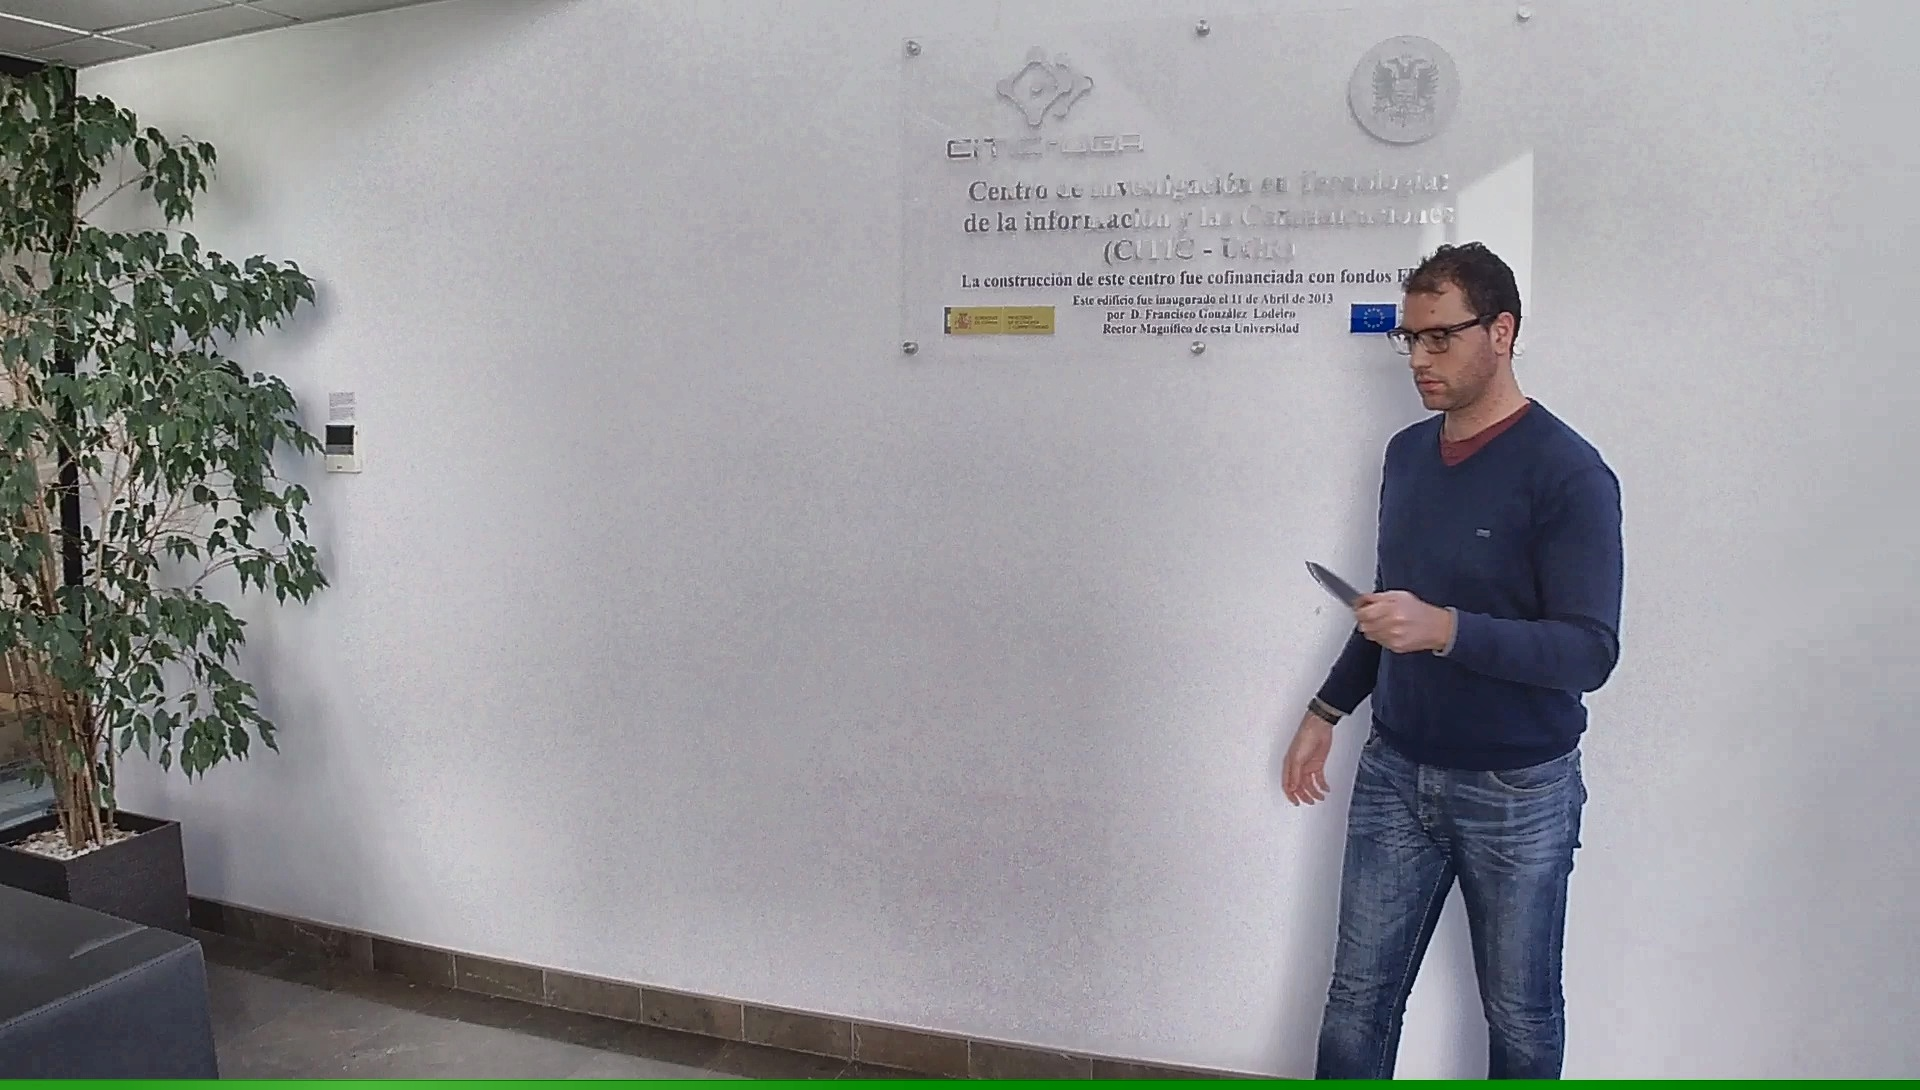knife: (1295, 554, 1400, 639)
